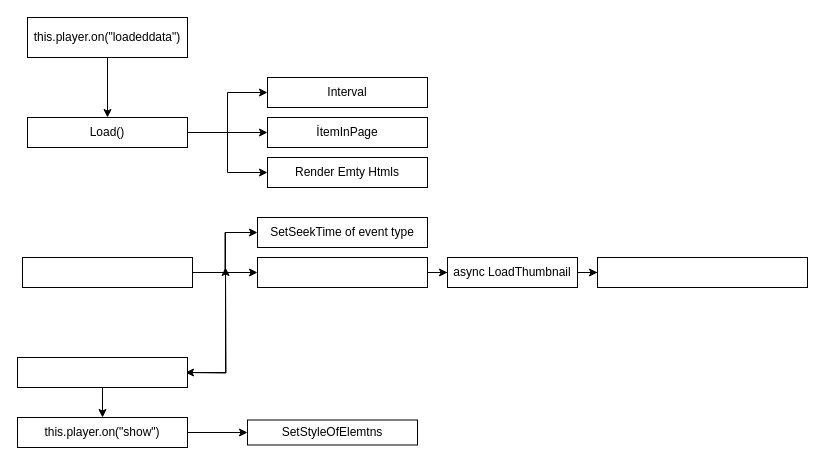
Image size: 825x465. Some labels were removed from this diagram. Each missing label, with the box of its shape:
await => async GetThumbnailFromSeekTime: (256, 256, 428, 288)
this.player.emit("show",await return): (596, 256, 808, 288)
this.player.on("showSeekTime"): (16, 356, 188, 388)
this.player.on("startmove"): (22, 256, 192, 288)
